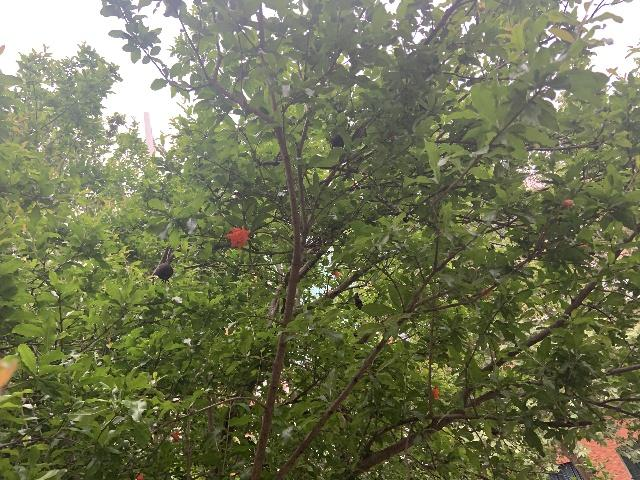bud: (562, 199, 573, 207)
flower: (225, 225, 251, 249), (432, 387, 439, 399), (172, 430, 180, 440), (332, 271, 340, 277)
